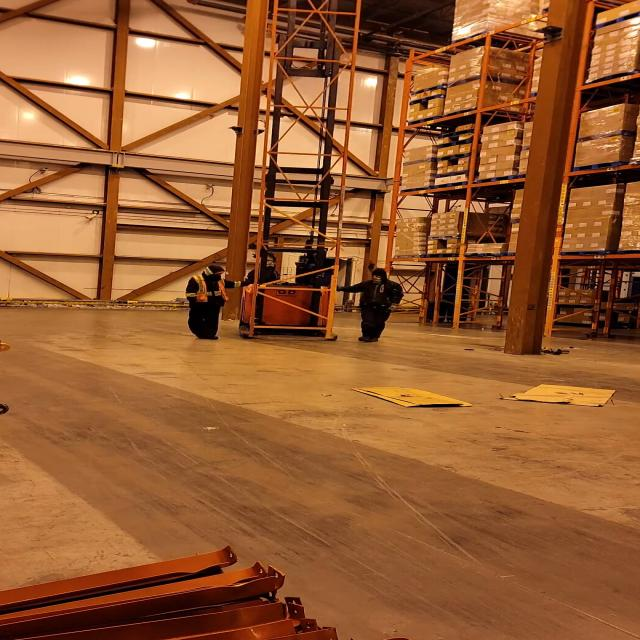forklift: (230, 172, 347, 344)
human: (181, 264, 257, 344), (337, 266, 405, 346), (238, 256, 284, 286)
objectofinterest: (245, 1, 348, 348), (342, 380, 480, 410), (500, 381, 614, 409)
